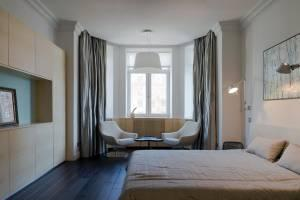window: (126, 70, 171, 117)
